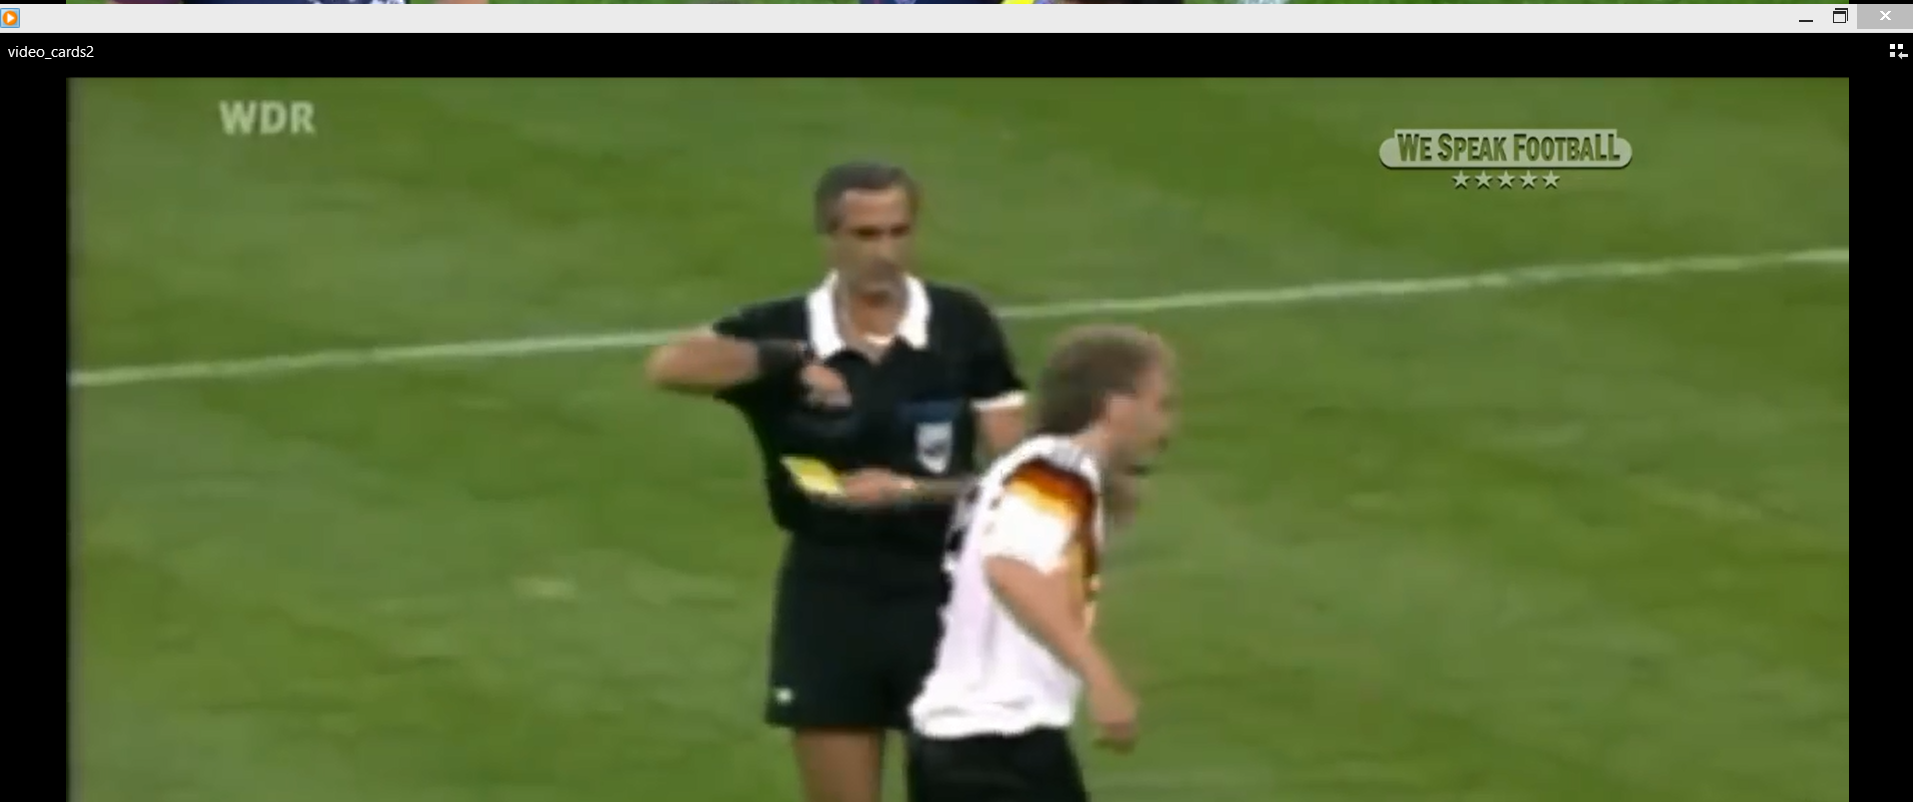yellow_card: (777, 441, 904, 521)
